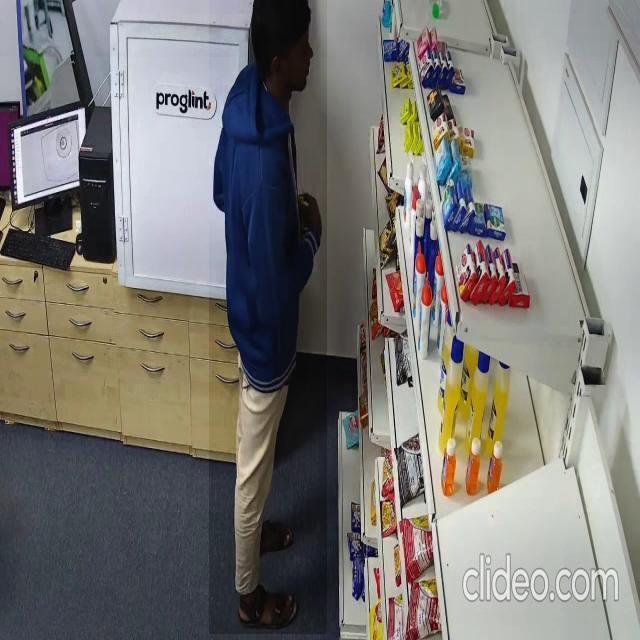Shoplifting: (209, 0, 327, 634)
